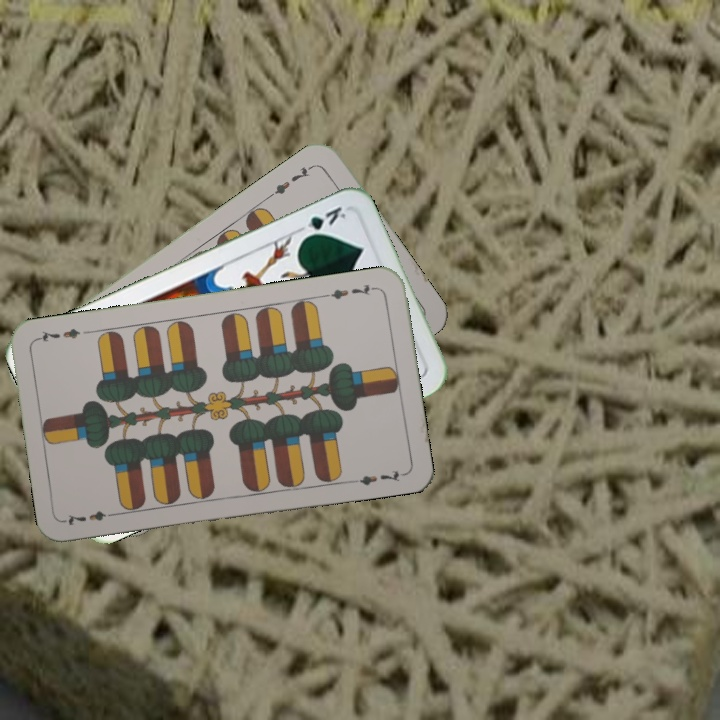E7: (265, 160, 317, 200), (321, 280, 380, 302), (61, 507, 120, 528)
GK: (293, 202, 350, 242)
